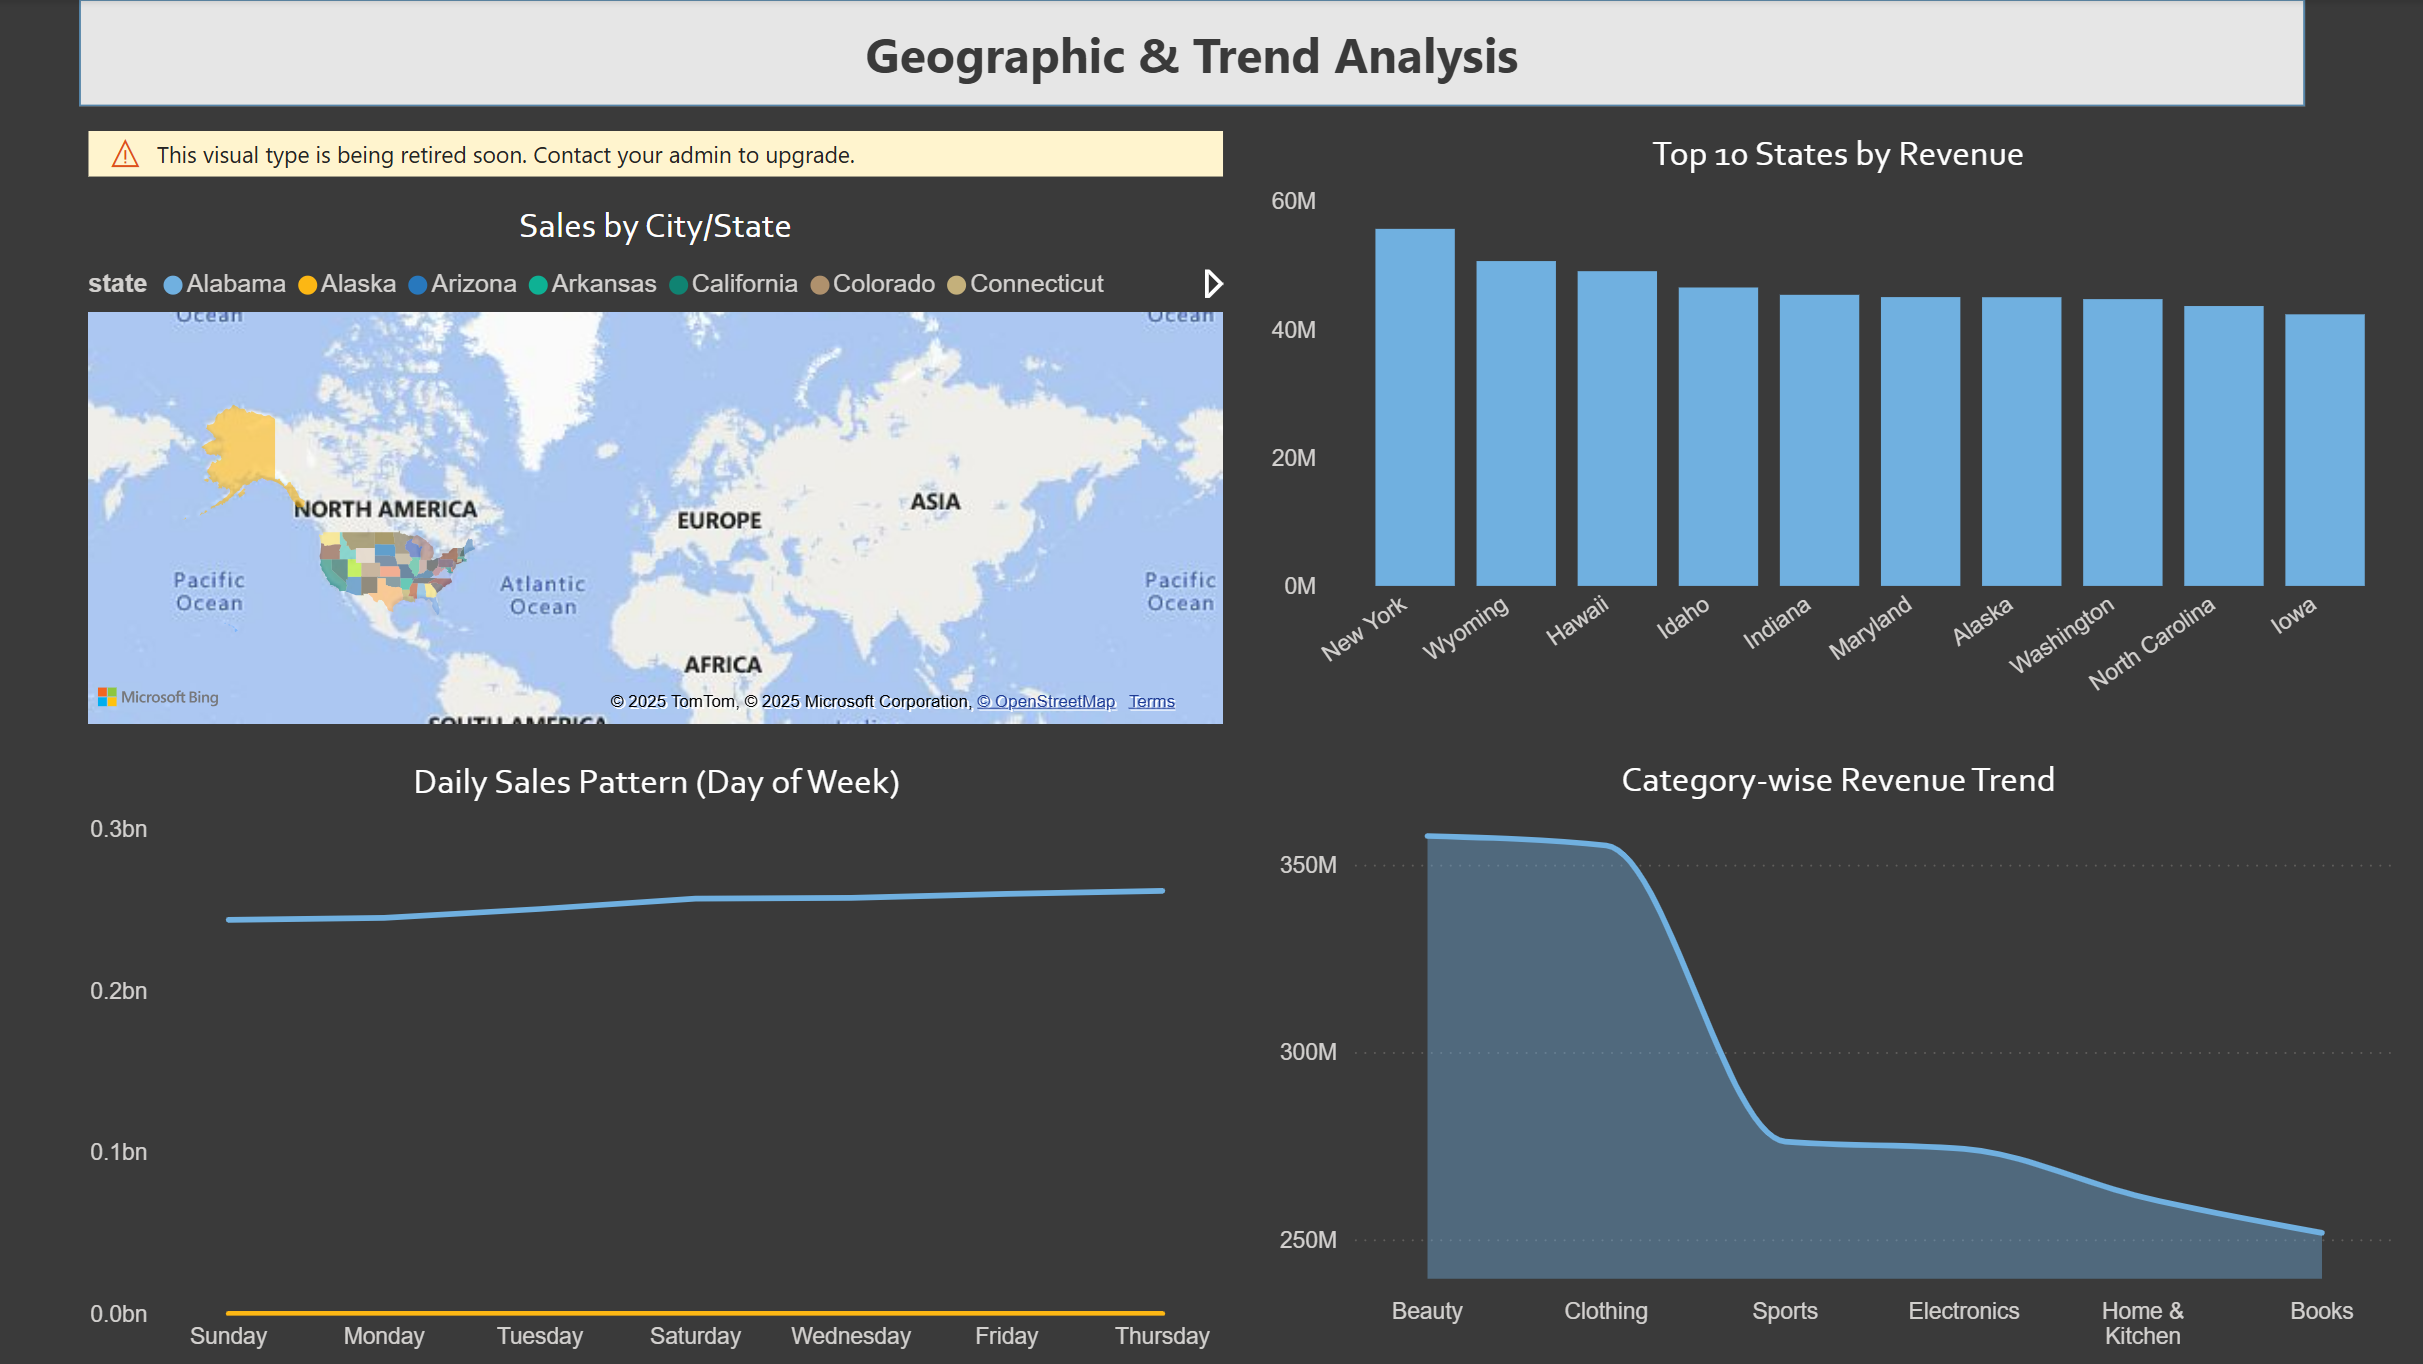

The page's visual inventory and layout, read from the dashboard file:
{"tool":"powerbi","page":{"name":"Page 4","canvas":[1280,720],"ordinal":3},"visuals":[{"type":"filledMap","title":"Sales by City/State","fields":{"Category":["warehouse dim_customers.state"],"Series":["warehouse dim_customers.state"]},"box":[43.3,70,607.8,317.8],"z":0},{"type":"clusteredColumnChart","title":" Top 10 States by Revenue","fields":{"Category":["warehouse dim_customers.state"],"Y":["Measure Table.Total Revenue"]},"box":[666.7,70,608.9,317.8],"z":1000},{"type":"lineChart","title":"Daily Sales Pattern (Day of Week)","fields":{"Category":["warehouse dim_date.day_name"],"Y":["Measure Table.Total Revenue","Measure Table.Total Transactions"]},"box":[43,400.1,608.9,320.4],"z":2000},{"type":"stackedAreaChart","title":"Category-wise Revenue Trend","fields":{"Y":["Measure Table.Total Revenue"],"Category":["warehouse dim_products.category"]},"box":[666,400,609,320],"z":3000},{"type":"shape","box":[43.3,0,1173.3,56.7],"z":3001}]}

Visuals, with their boxes in screenshot pixels (x1, y1, x2, y2), scaled from the page's 1280x720 canvas onto the 2423x1364 screenshot:
"Sales by City/State" filledMap: x1=82, y1=133, x2=1233, y2=735
" Top 10 States by Revenue" clusteredColumnChart: x1=1262, y1=133, x2=2415, y2=735
"Daily Sales Pattern (Day of Week)" lineChart: x1=81, y1=758, x2=1234, y2=1363
"Category-wise Revenue Trend" stackedAreaChart: x1=1261, y1=758, x2=2414, y2=1363
shape: x1=82, y1=0, x2=2303, y2=107
